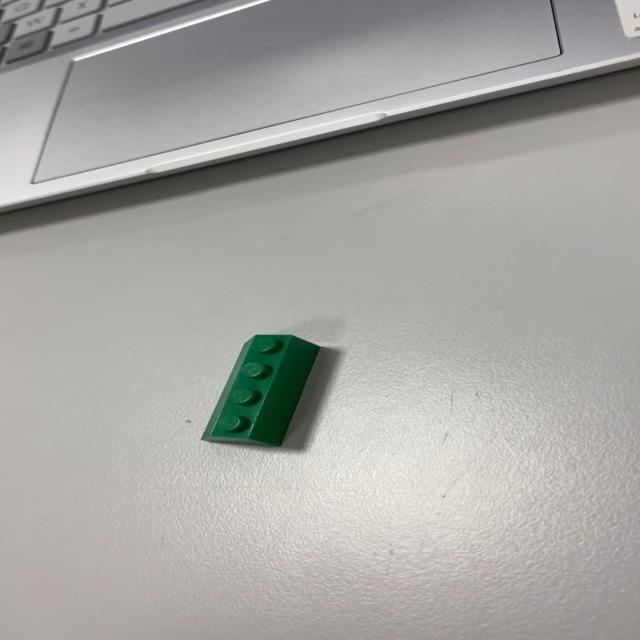P4x2x1: (199, 333, 321, 447)
